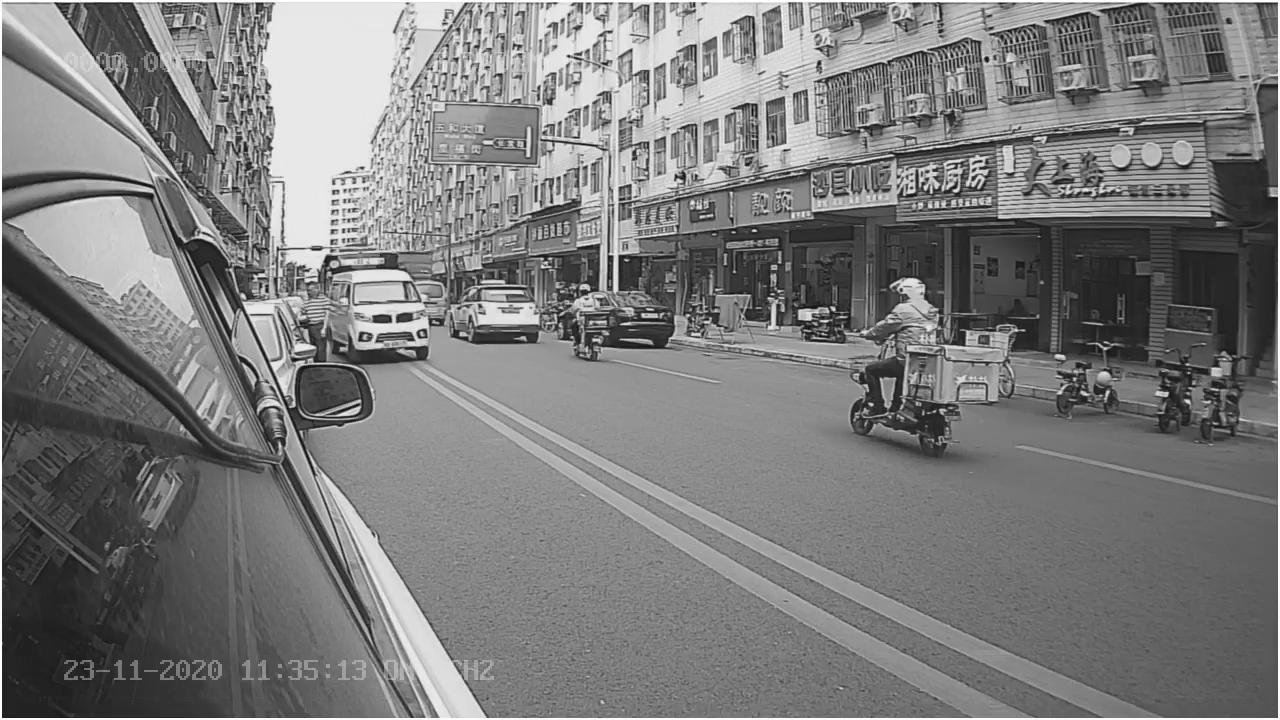person: (859, 267, 942, 351)
